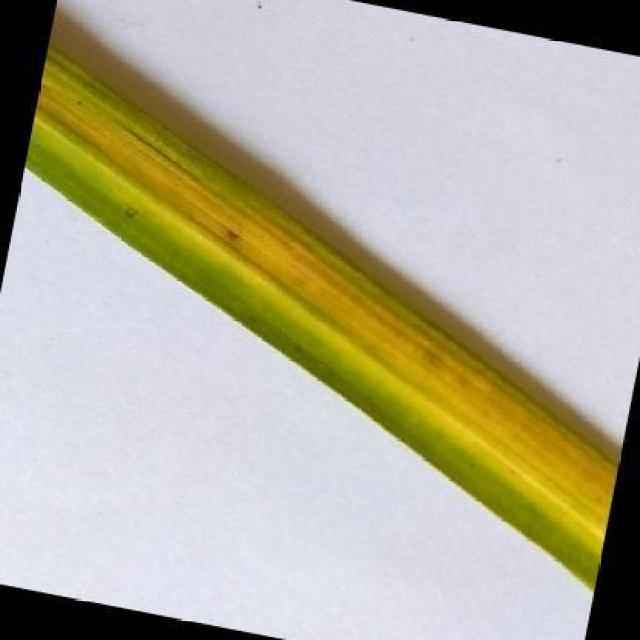Rice False Smut: (0, 15, 638, 583)
